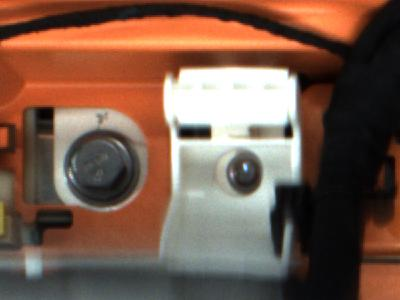nut_b: (55, 123, 145, 211)
